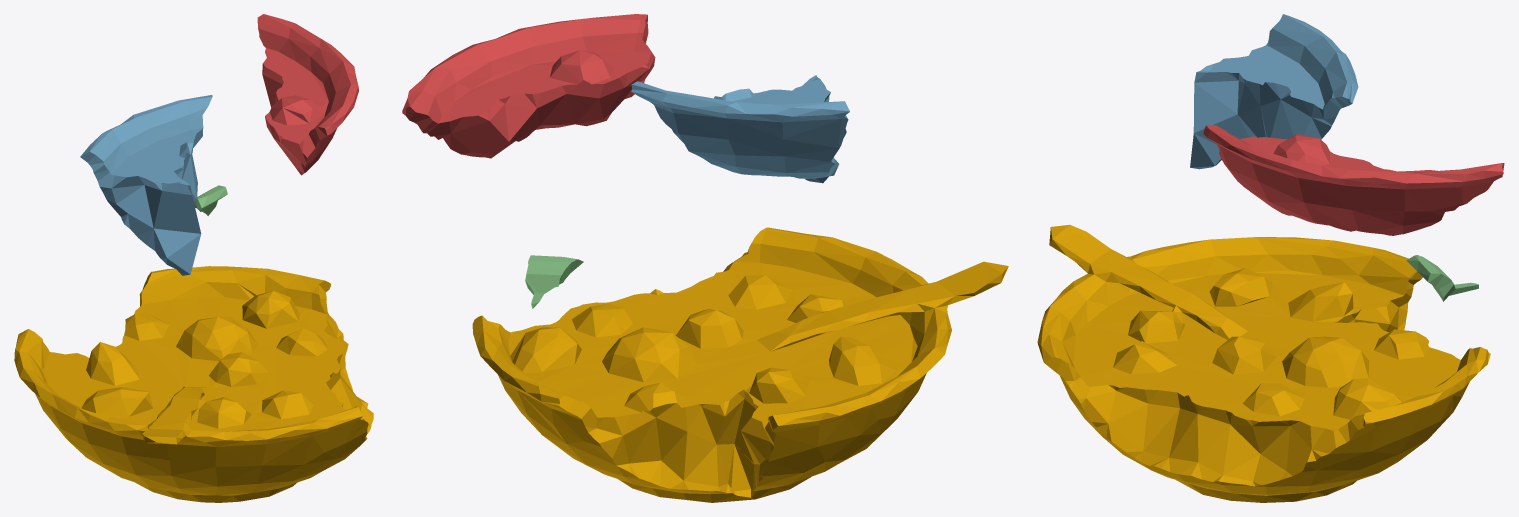
The model's file is fractured_17_4pcs_transformed.glb.
The picture shows the model from 3 angles, left to right: view 1: azimuth 30°, elevation 25°; view 2: azimuth 150°, elevation 25°; view 3: azimuth 270°, elevation 25°; orthographic projection. The views are drawn at different scales.
Parts seen in each view (by area): view 1: piece_0.obj, piece_2.obj, piece_1.obj, piece_3.obj; view 2: piece_0.obj, piece_1.obj, piece_2.obj, piece_3.obj; view 3: piece_0.obj, piece_1.obj, piece_2.obj, piece_3.obj.
Boxes of the visible parts, x1,y1,x2,y2 form: piece_0.obj: (14, 266, 373, 502); piece_2.obj: (80, 95, 212, 275); piece_1.obj: (257, 14, 358, 175); piece_3.obj: (194, 185, 227, 215); piece_0.obj: (472, 227, 1008, 502); piece_1.obj: (402, 14, 655, 158); piece_2.obj: (631, 75, 849, 183); piece_3.obj: (525, 255, 583, 308); piece_0.obj: (1037, 224, 1490, 502); piece_1.obj: (1203, 125, 1504, 235); piece_2.obj: (1190, 14, 1358, 169); piece_3.obj: (1406, 255, 1478, 301).
Size of the model in its own units: 1 by 0.9086 by 1.01.
